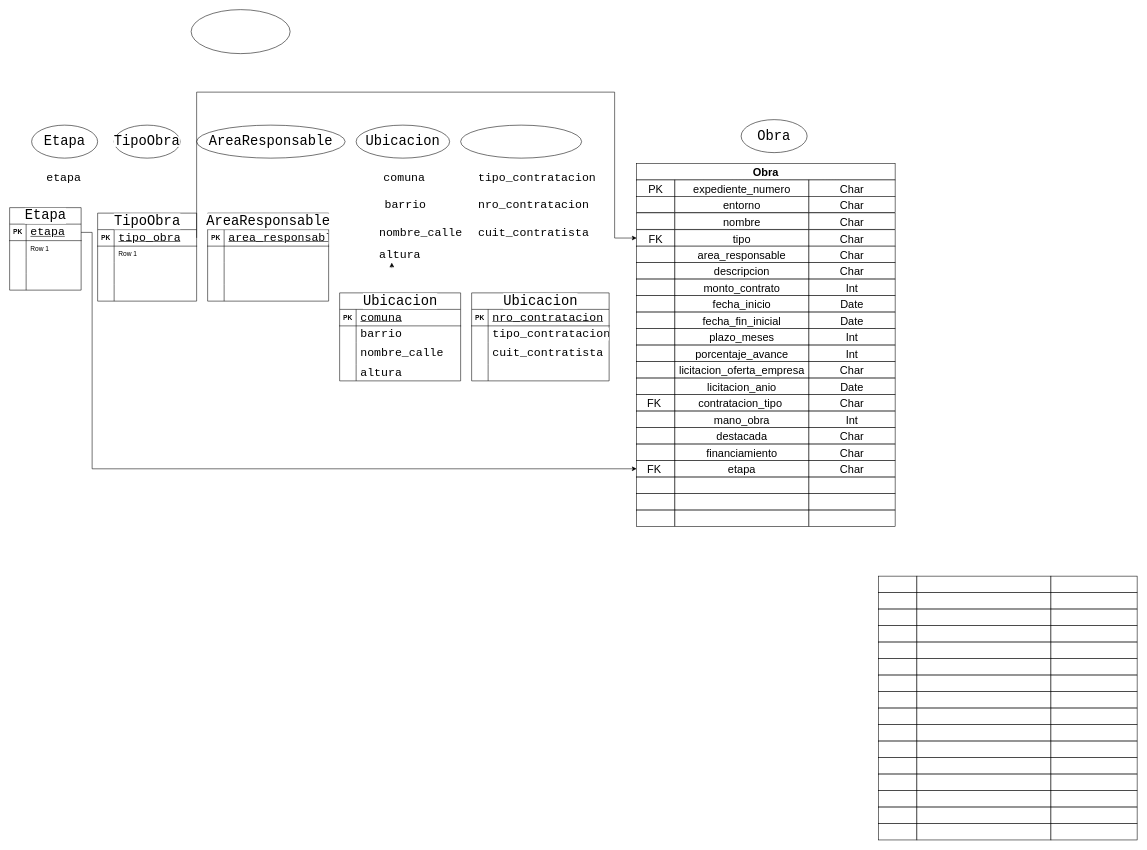
This 1147x850 diagram has some shape labels left out. Each missing label, with the centre of its shape:
BaseModel: point 240,31
Contratacion: point 521,141
